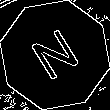N_SE: (25, 23, 85, 87)
